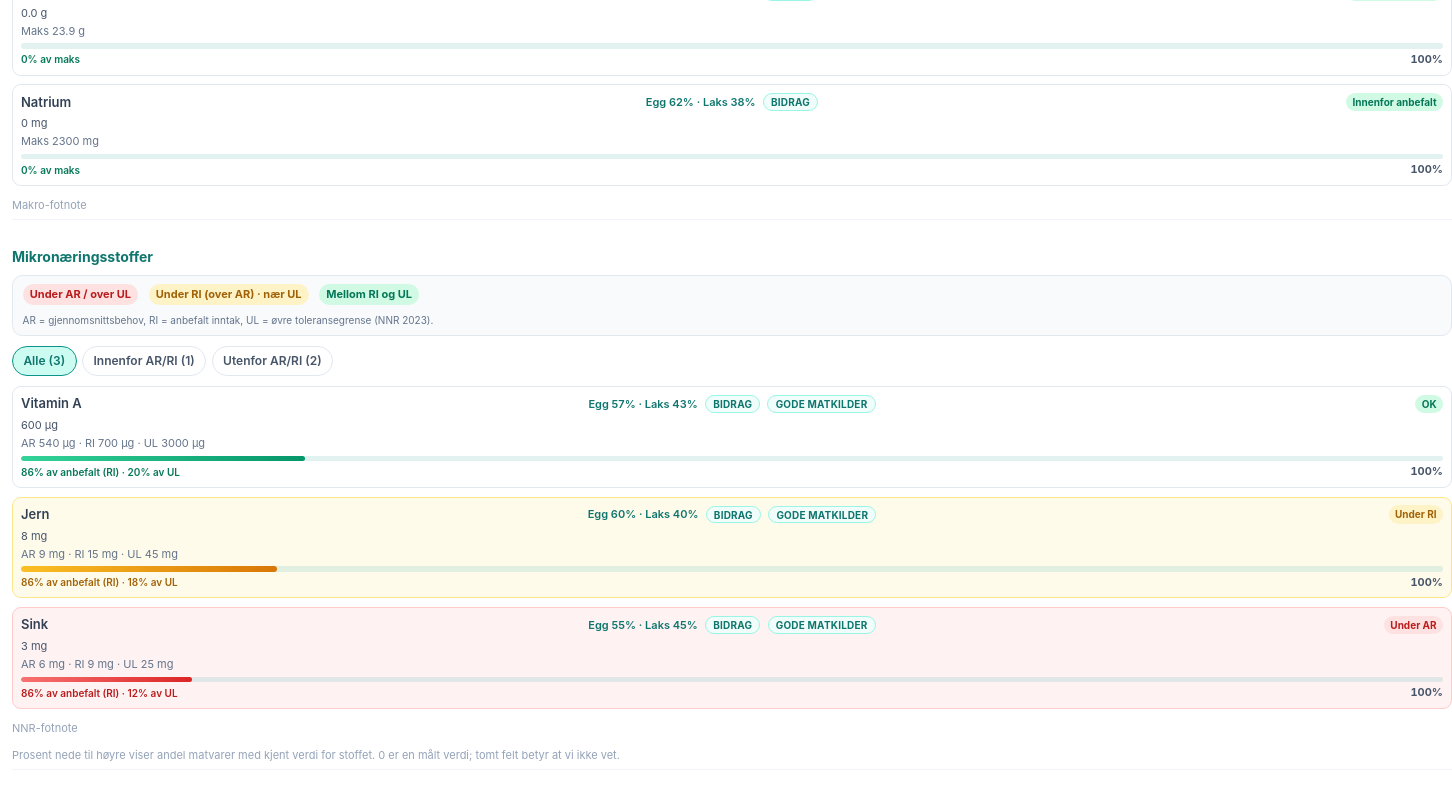
Test: NutritionReportStackedBody › asks before removing a food from the good-sources list
(page scrolled)
Click the button with aria-label "Vis gode matkilder til Vitamin A": (822, 404) [768, 395, 876, 413]
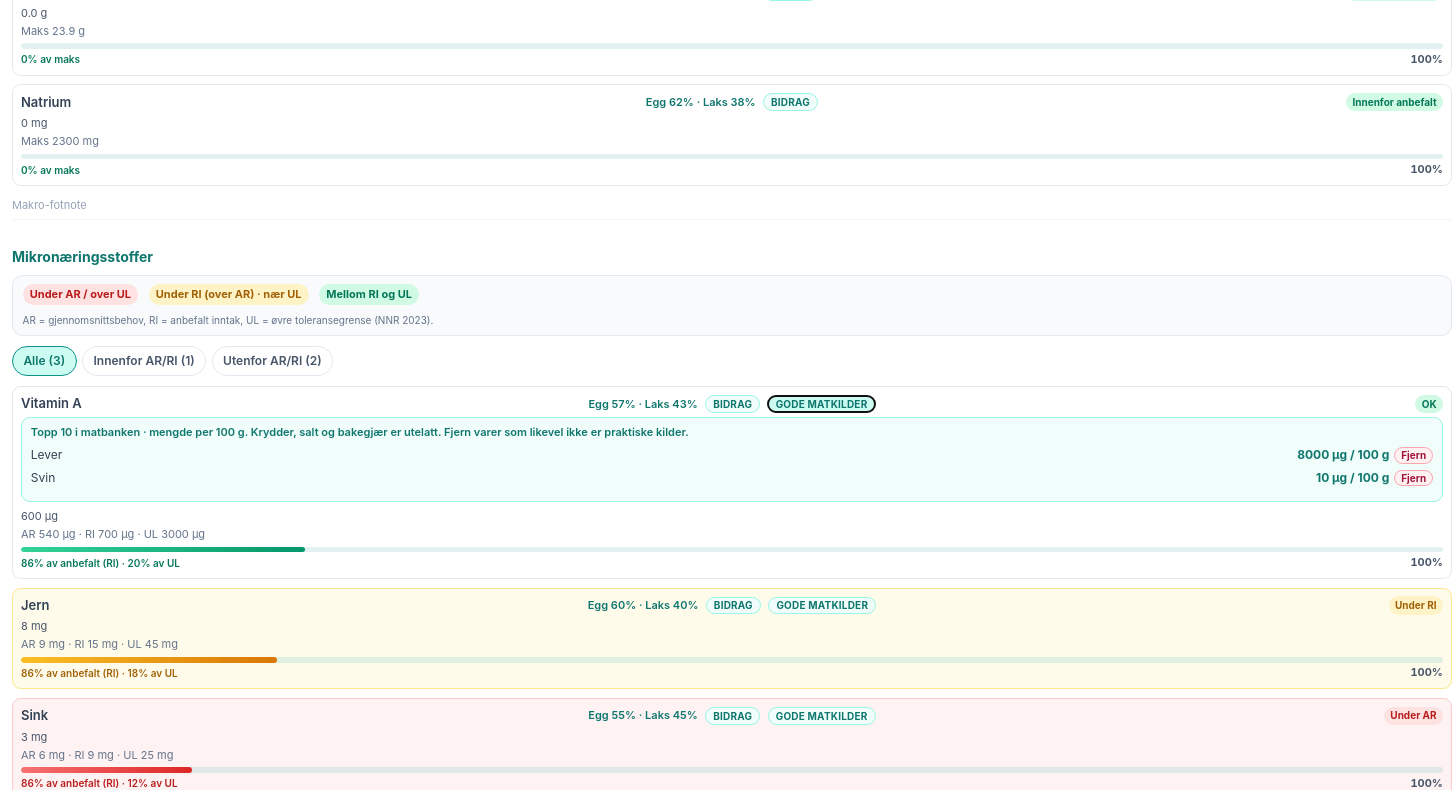
Click the button with aria-label "Fjern Lever fra listen": (1414, 455) [1394, 447, 1433, 464]
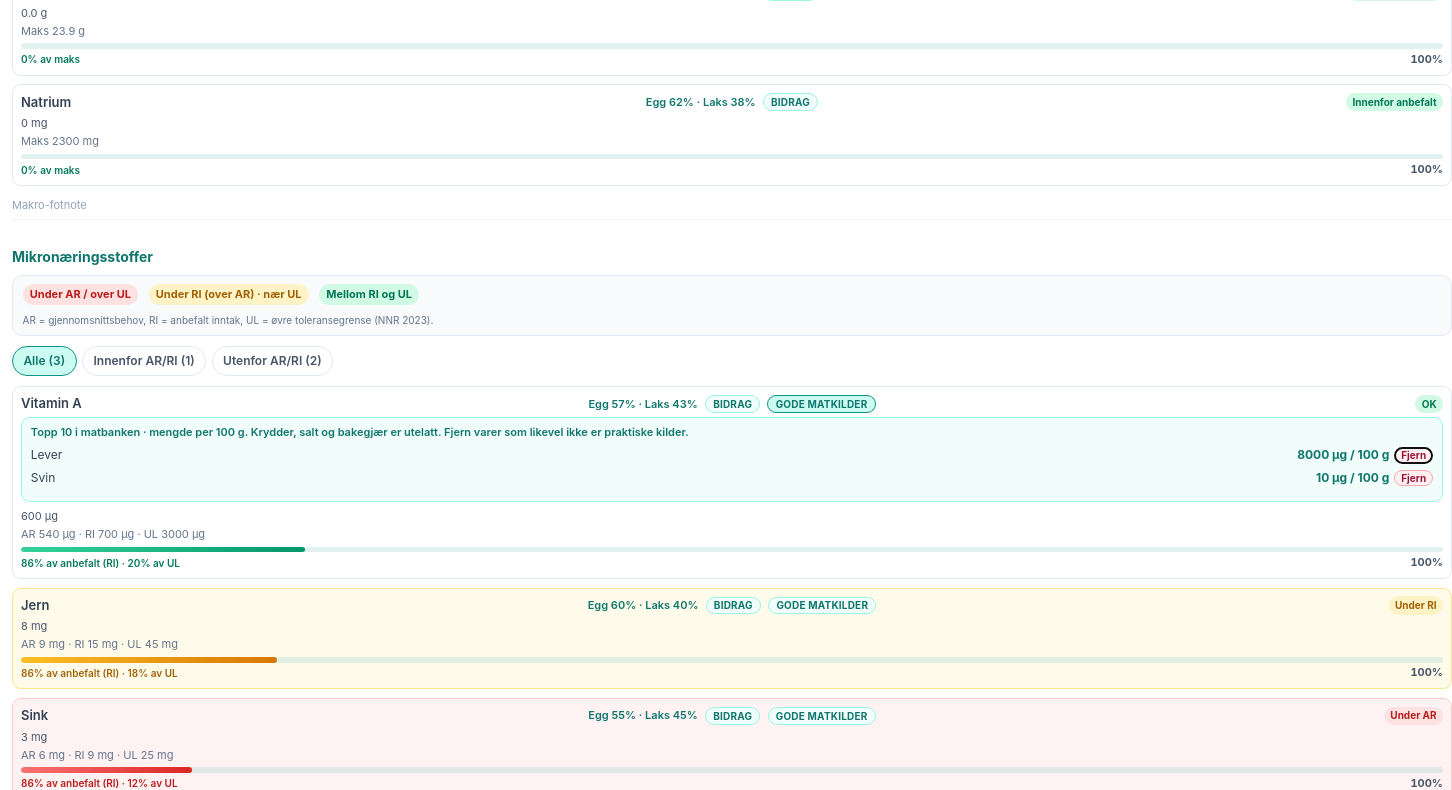
expect the text "Lever" is shown: met, box [31, 446, 62, 464]
Click the button with aria-label "Fjern Lever fra listen": (1414, 455) [1394, 447, 1433, 464]
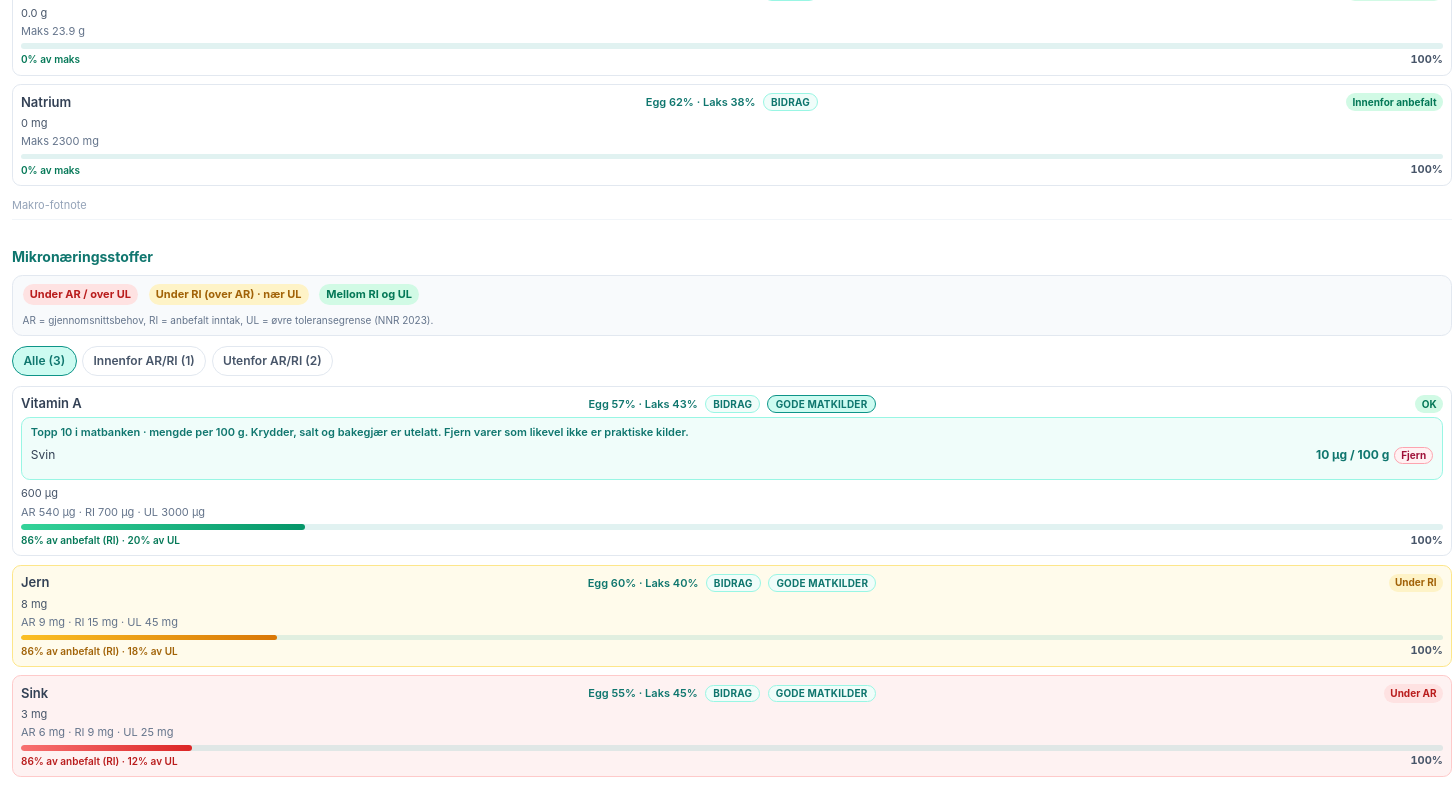
expect the text "Svin" is shown: met, box [31, 446, 55, 464]
expect the text "Lever" is gone: met
